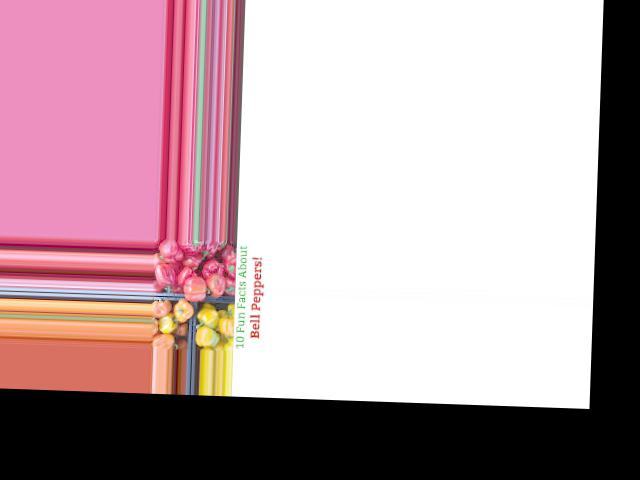bell_pepper: (219, 252, 239, 283)
